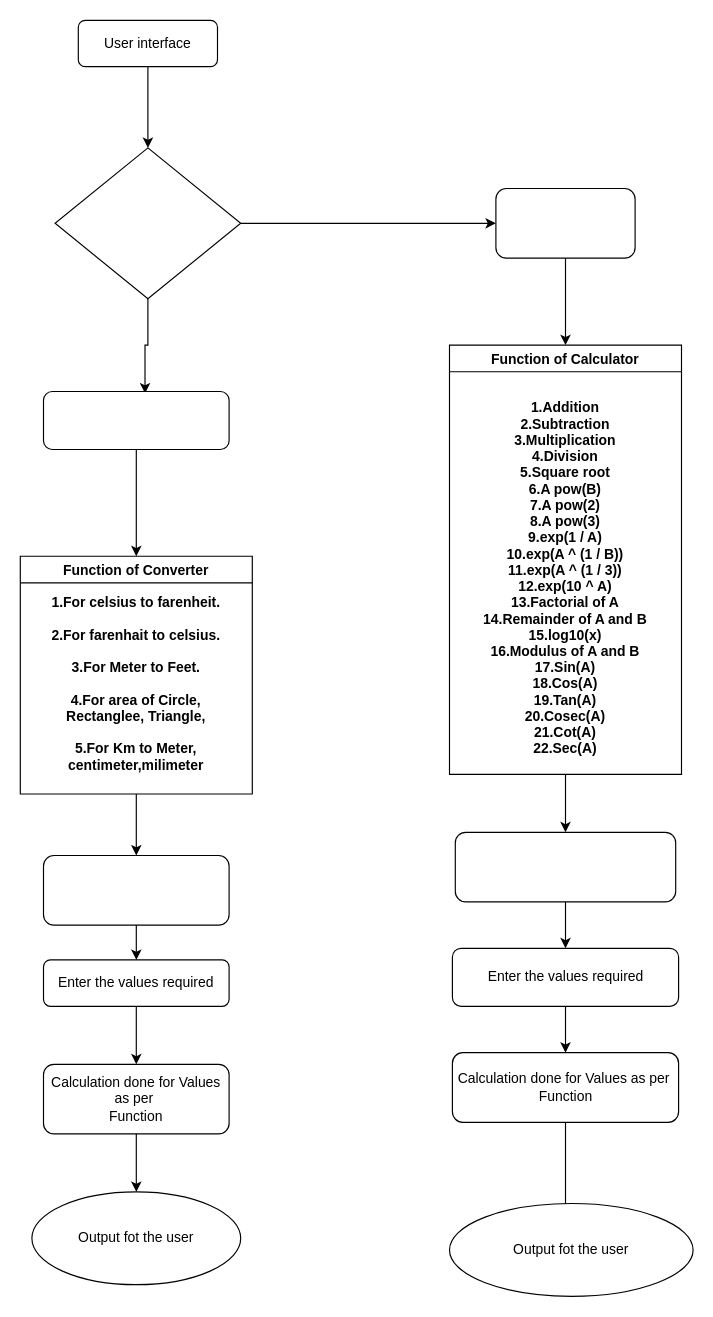
Image size: 713x1317. Some labels were removed from this diagram. Here are the shapes that lost their labels. From the top down, the centre of each, then its label:
At (147,223): "Calculator /Converter".
At (565,222): "Calculator".
At (135,419): "Converter".
At (565,866): "Move to Selected Function".
At (135,889): "Move to Selected Fnction".
